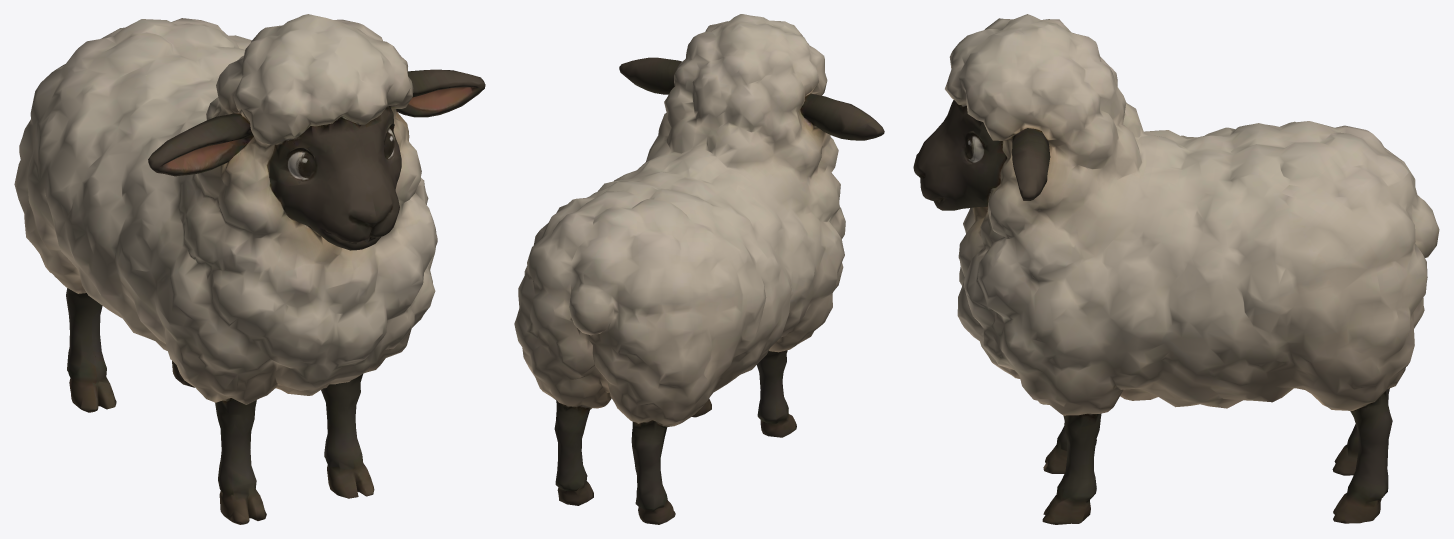
The model's file is nat_sheep_a_v1.glb.
The picture shows the model from 3 angles, left to right: view 1: azimuth 30°, elevation 25°; view 2: azimuth 150°, elevation 25°; view 3: azimuth 270°, elevation 25°; orthographic projection. The views are drawn at different scales.
Visible parts, largest first — view 1: tripo_node_427b42fc-527f-4798-a29c-134afe34381b; view 2: tripo_node_427b42fc-527f-4798-a29c-134afe34381b; view 3: tripo_node_427b42fc-527f-4798-a29c-134afe34381b.
Part boxes in pixels (box(x1,y1,x2,y2)): tripo_node_427b42fc-527f-4798-a29c-134afe34381b: box(14, 14, 485, 524); tripo_node_427b42fc-527f-4798-a29c-134afe34381b: box(514, 14, 884, 524); tripo_node_427b42fc-527f-4798-a29c-134afe34381b: box(913, 14, 1439, 524).
Bounding box in the file's own units: 0.6852 × 0.9654 × 0.9802.
1 material, 1 textured.
